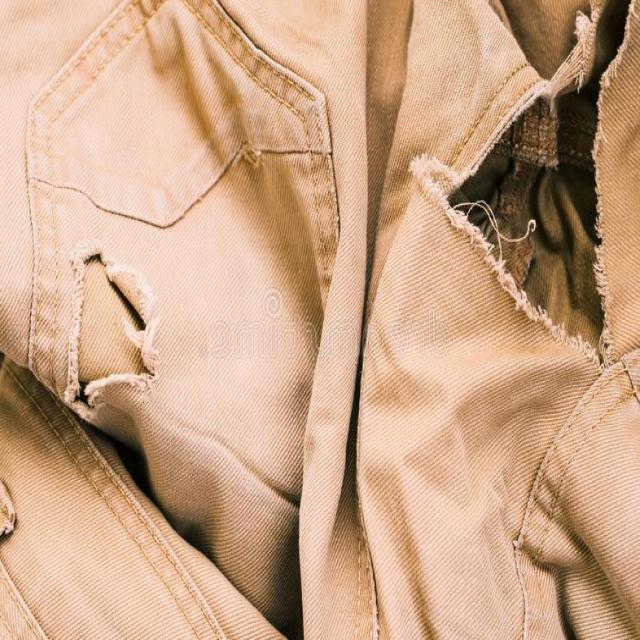clothes: (51, 117, 614, 580)
